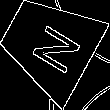N_NW: (19, 14, 80, 74)
